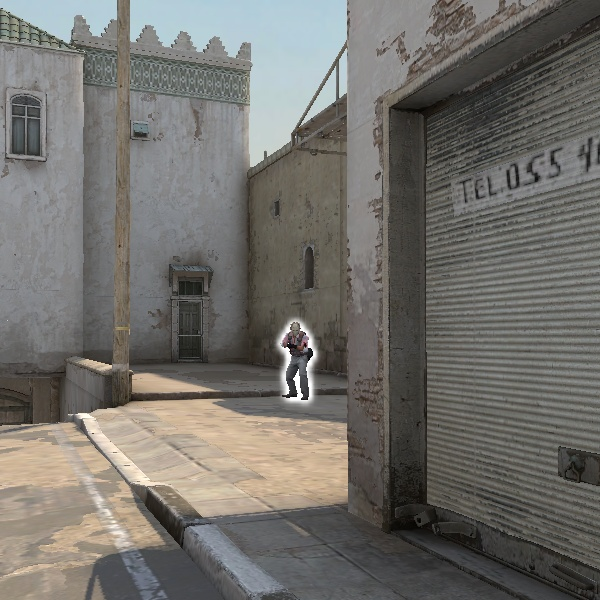t_body: (276, 322, 318, 400)
t_head: (291, 322, 302, 337)
